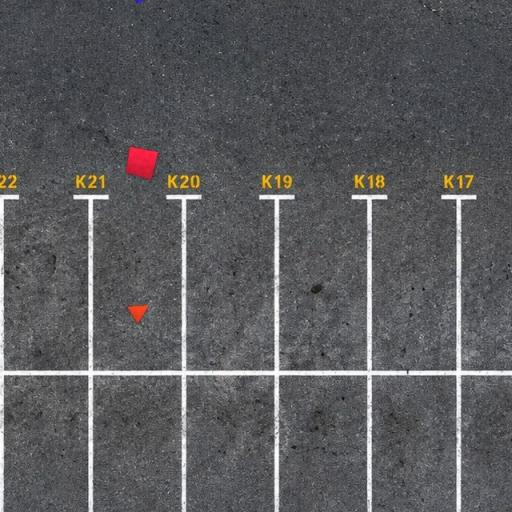RED_SQUARE: (125, 146, 159, 180)
